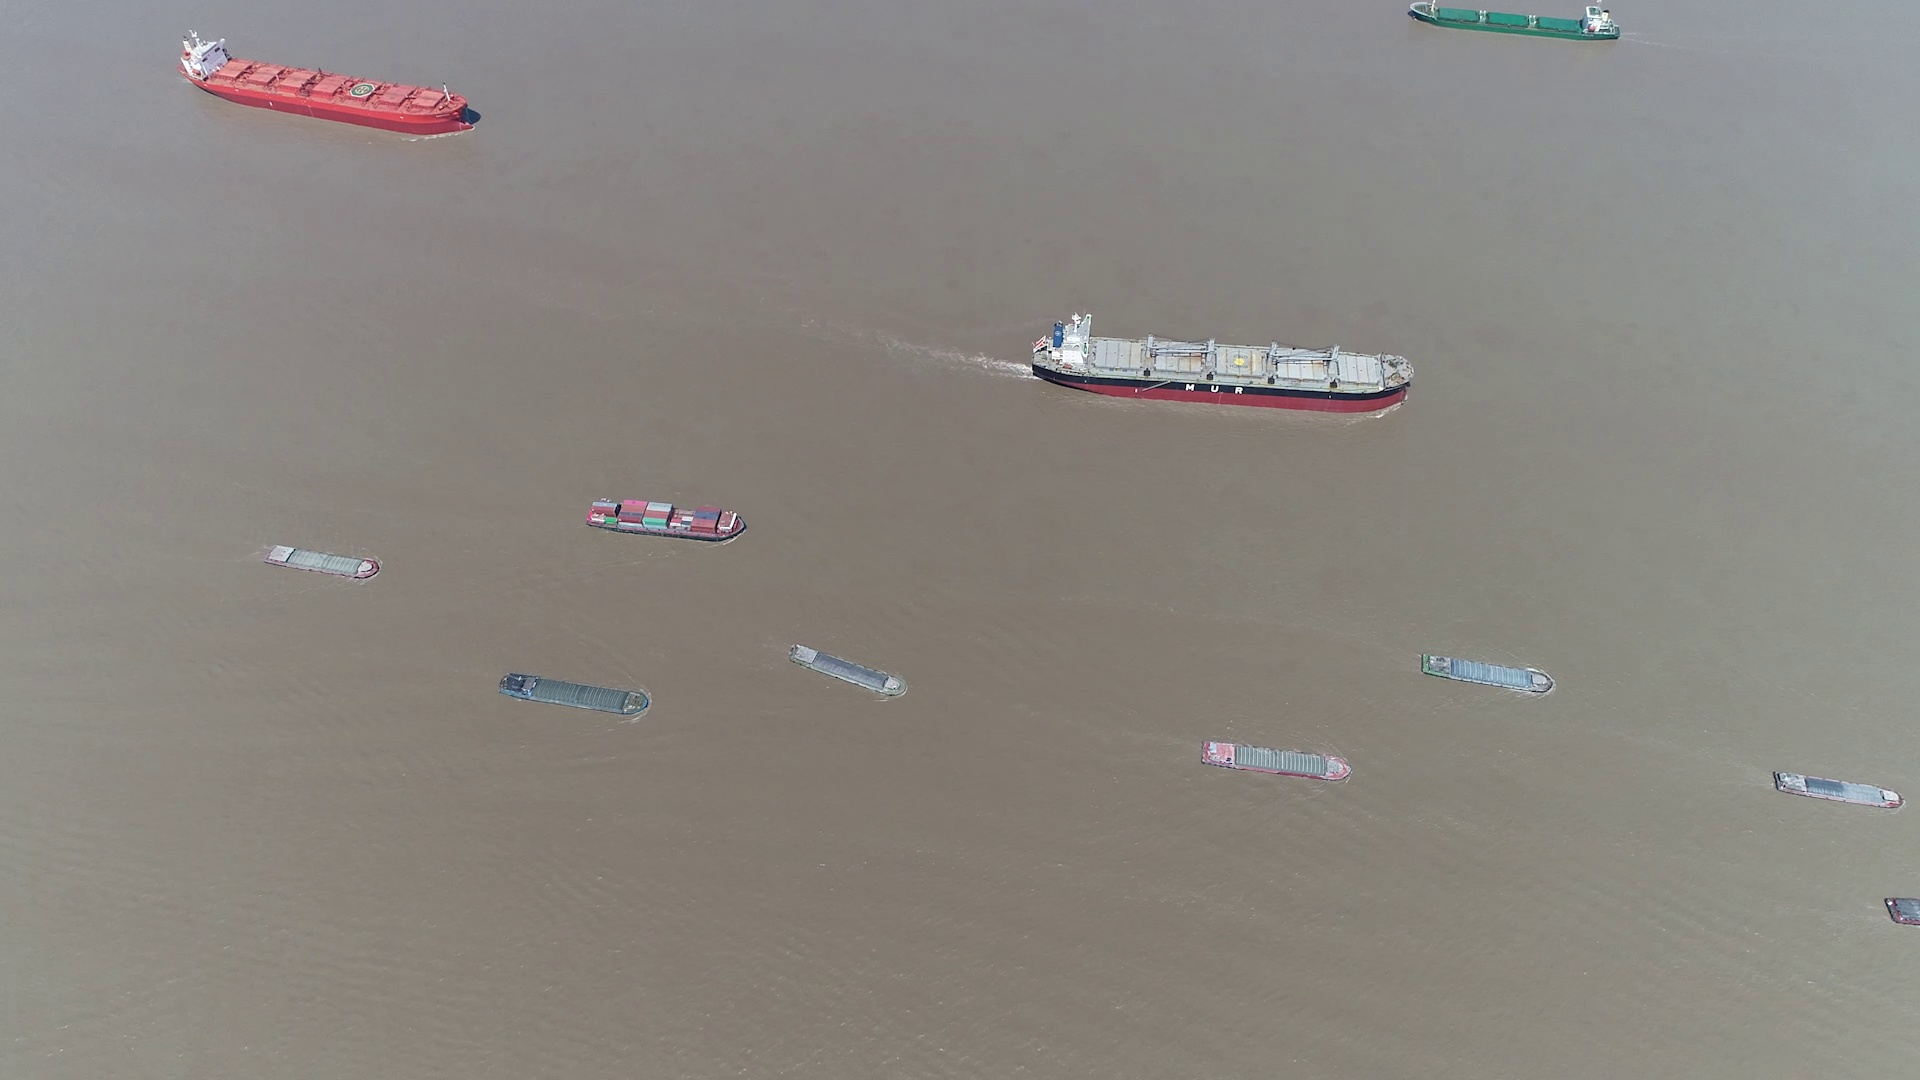ship: (1033, 313, 1414, 411), (179, 28, 477, 136), (585, 495, 746, 541), (1407, 5, 1621, 40), (500, 673, 651, 717), (1200, 740, 1350, 783), (791, 644, 909, 698), (1772, 769, 1904, 810), (1422, 654, 1553, 694), (262, 543, 380, 579), (1884, 899, 1917, 928)
